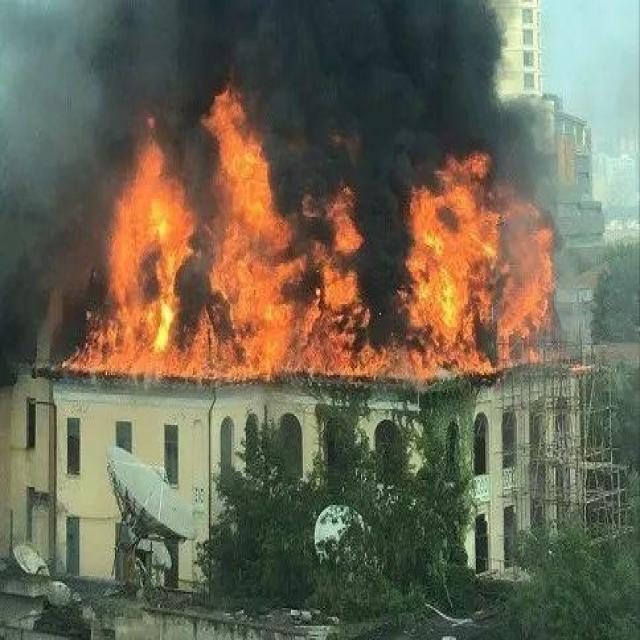Smoke: (0, 0, 567, 387)
